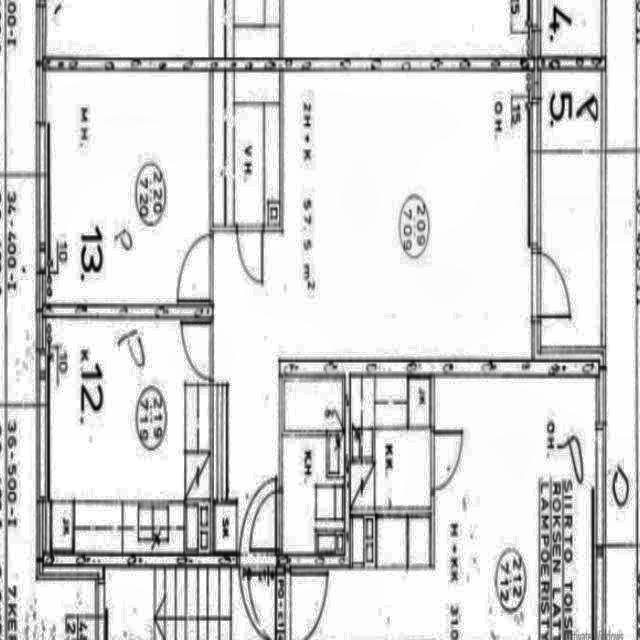room: (47, 320, 210, 552), (46, 72, 209, 303), (540, 69, 601, 341), (282, 375, 344, 553), (213, 71, 281, 228), (351, 377, 430, 507)
